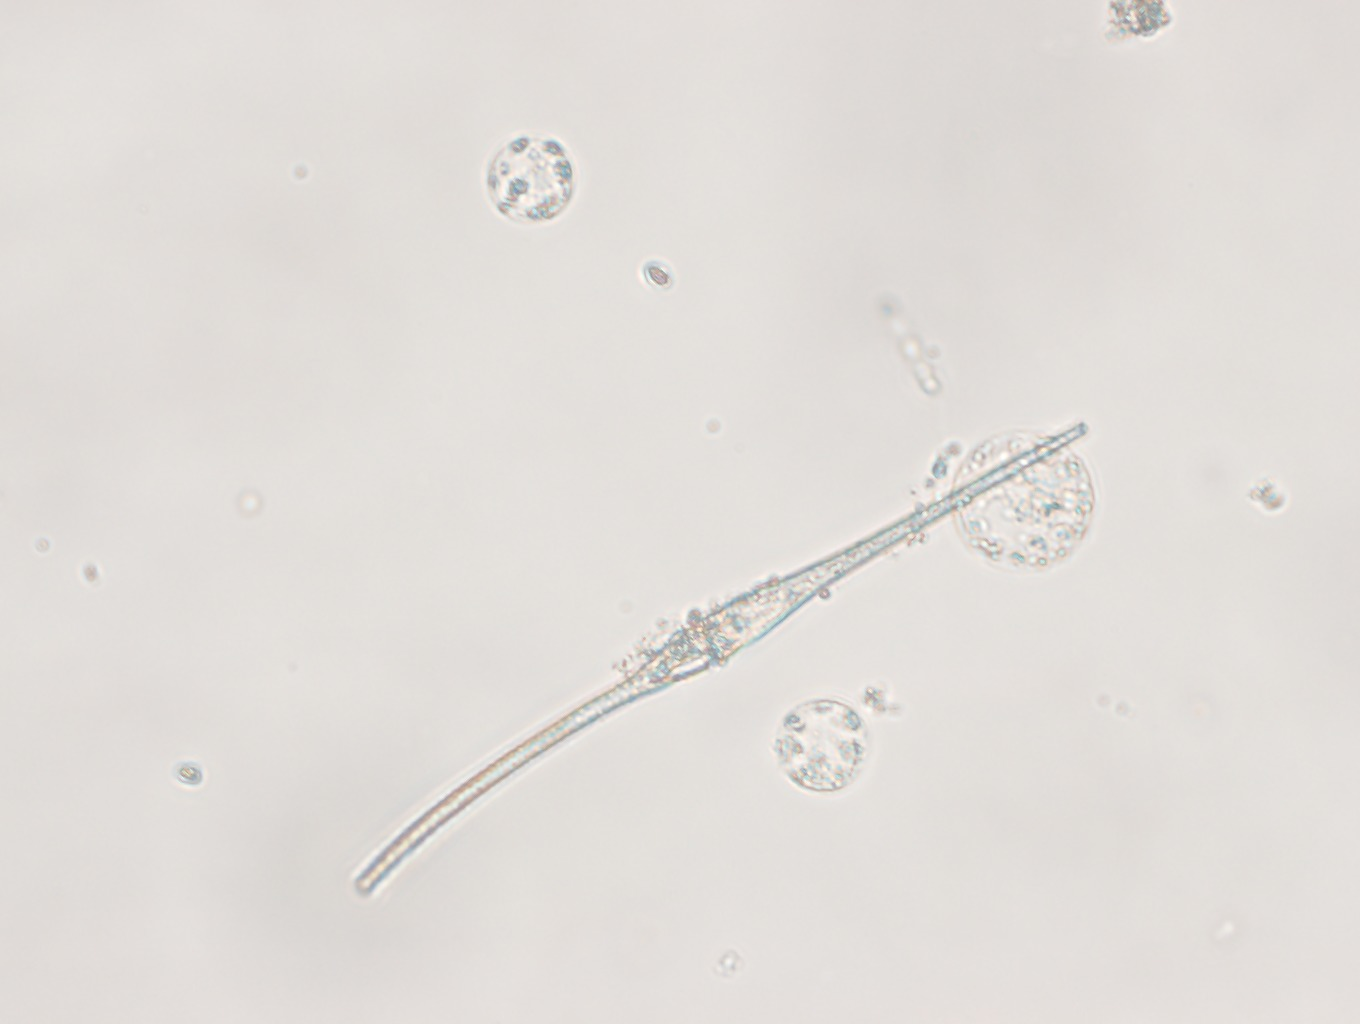ceratium fusus: (353, 423, 1089, 901)
